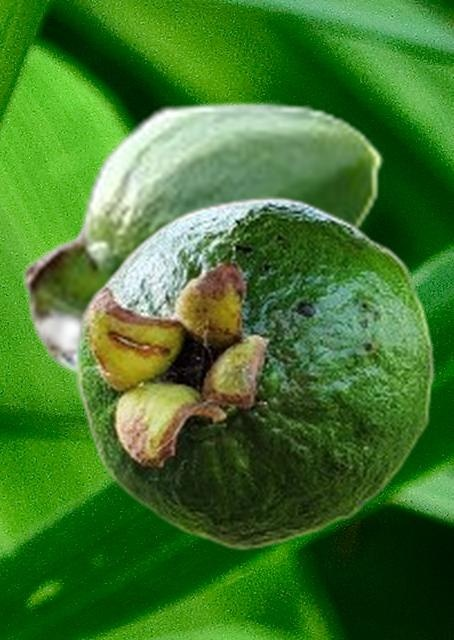guava: (74, 196, 435, 550), (22, 99, 383, 376)
